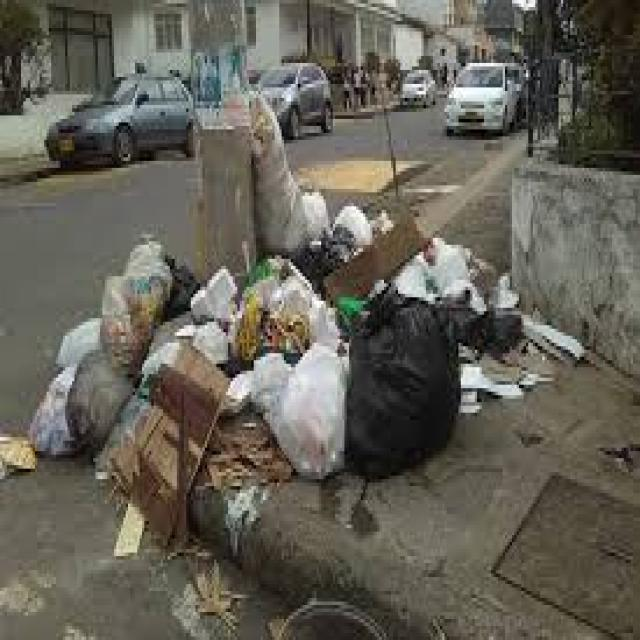garbage: (31, 226, 240, 566), (241, 206, 458, 492), (458, 242, 590, 424), (248, 90, 334, 254), (0, 409, 36, 486)
